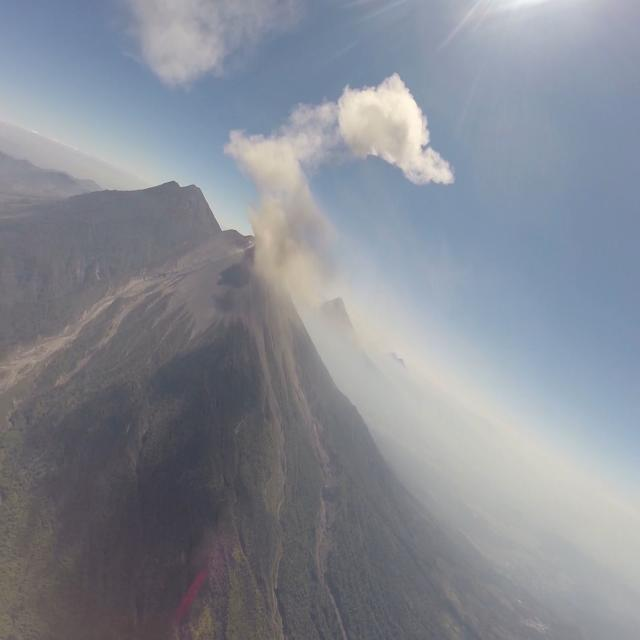Plume: (226, 125, 340, 296), (124, 2, 308, 93), (332, 67, 459, 192)
